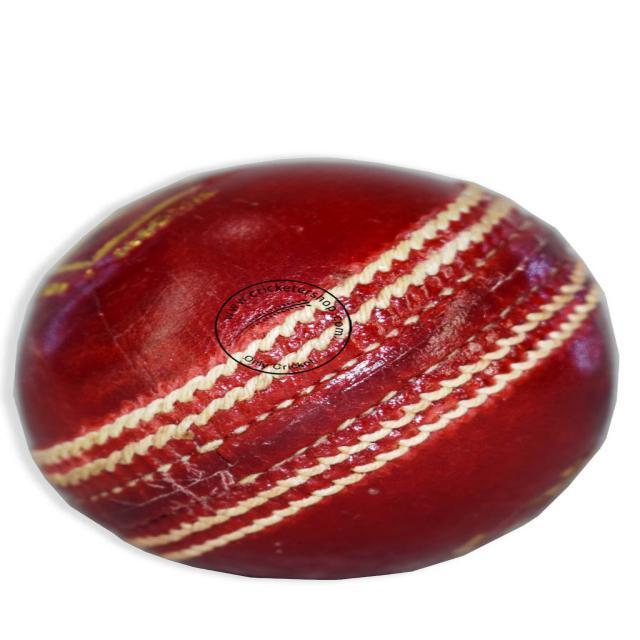cricket ball: (13, 158, 619, 581)
